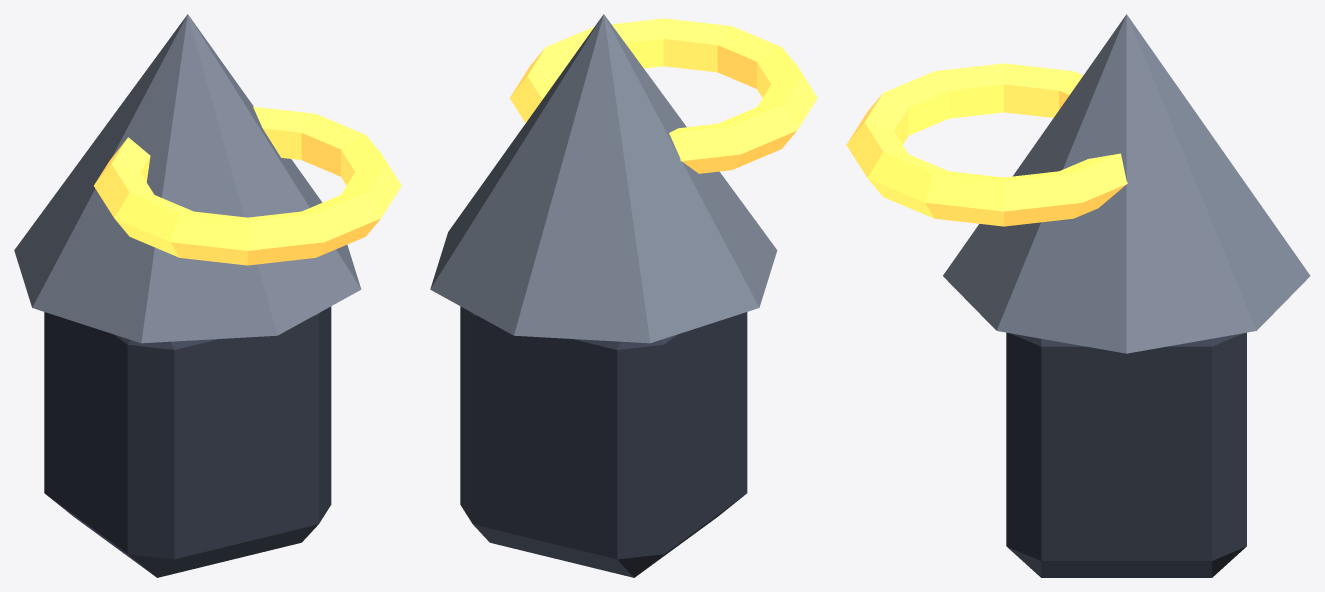
Rendered from obstacle_hazard_emitter.glb.
3 renders of one model, left to right at view 1: azimuth 30°, elevation 25°; view 2: azimuth 150°, elevation 25°; view 3: azimuth 270°, elevation 25°, orthographic. The views are drawn at different scales.
Parts seen in each view (by area): view 1: obstacle_hazard_emitter; view 2: obstacle_hazard_emitter; view 3: obstacle_hazard_emitter.
Boxes of the visible parts, left/top/right/bottom form: obstacle_hazard_emitter: left=14, top=14, right=401, bottom=577; obstacle_hazard_emitter: left=430, top=14, right=817, bottom=577; obstacle_hazard_emitter: left=846, top=14, right=1310, bottom=577.
Bounding box in the file's own units: 0.84 × 1.33 × 1.06.
